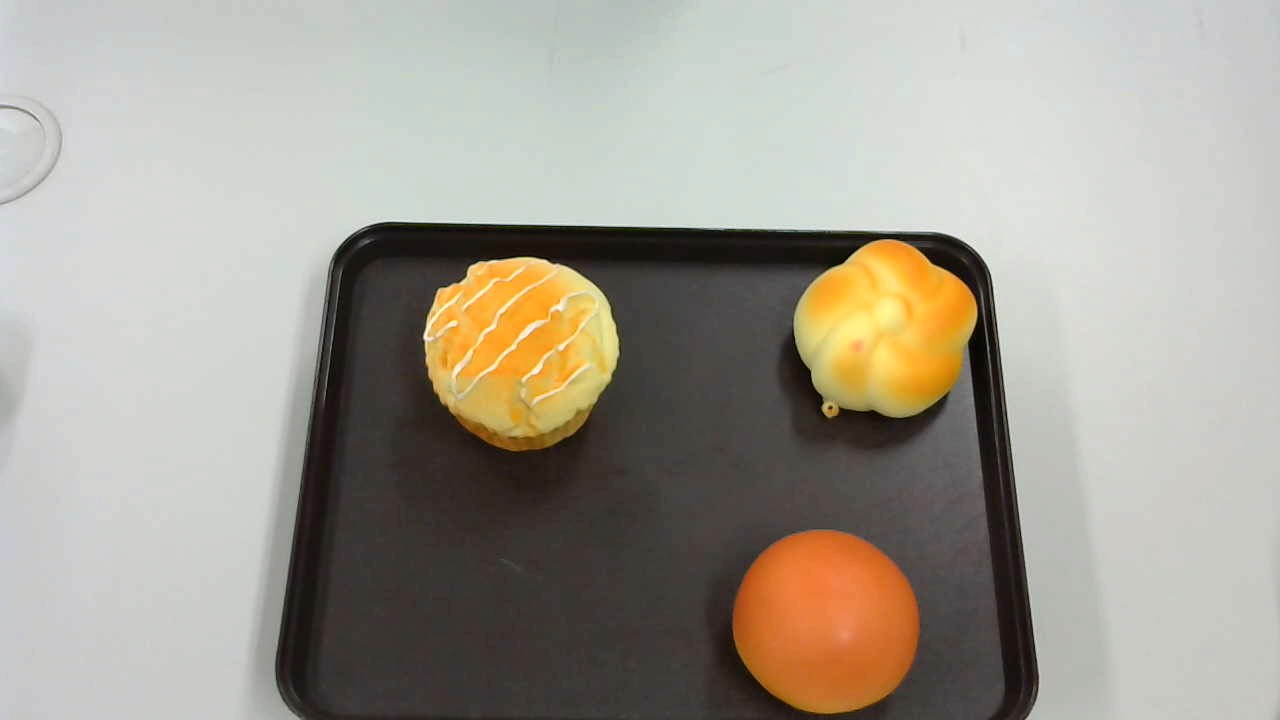bun: (732, 527, 921, 714)
cupcake: (424, 255, 621, 451)
twist bread: (794, 239, 977, 417)
